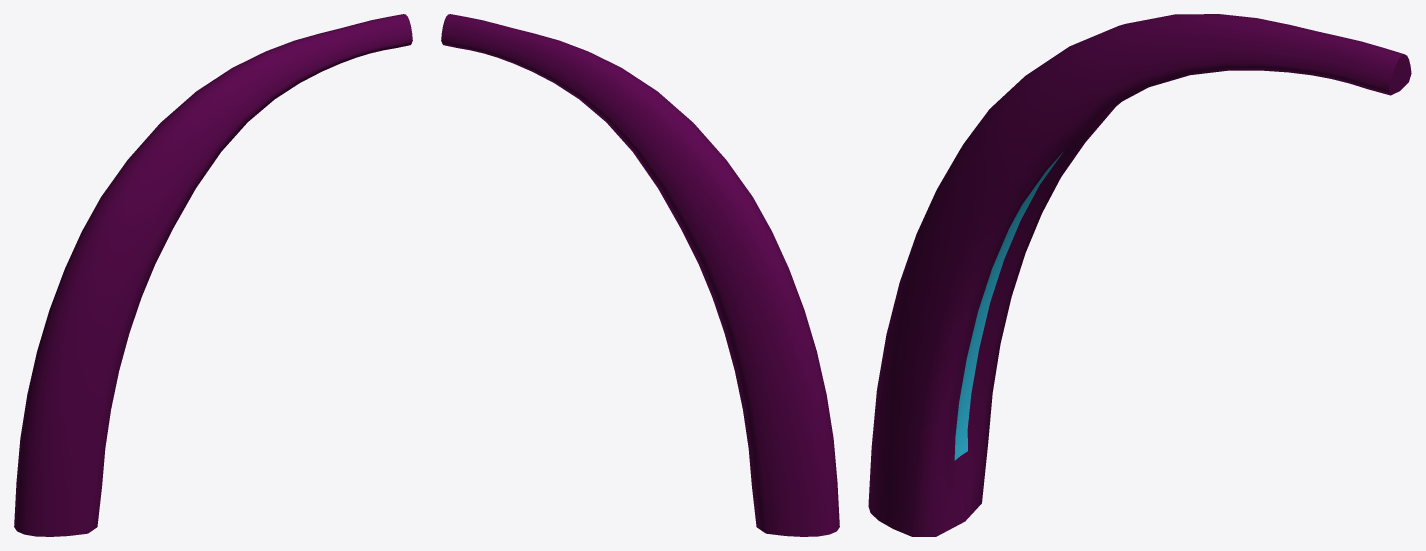
Rendered from Support Arch 3.FBX.
3 views of the same model, side by side, from view 1: azimuth 30°, elevation 25°; view 2: azimuth 150°, elevation 25°; view 3: azimuth 330°, elevation 25° (orthographic). The views are drawn at different scales.
Visible parts, largest first — view 1: Torus015; view 2: Torus015; view 3: Torus015.
Boxes of the visible parts, box(x1,y1,x2,y2) form: Torus015: box(14, 14, 412, 536); Torus015: box(441, 14, 839, 536); Torus015: box(868, 14, 1411, 536).
Bounding box in the file's own units: 15.68 × 16.32 × 2.93.
